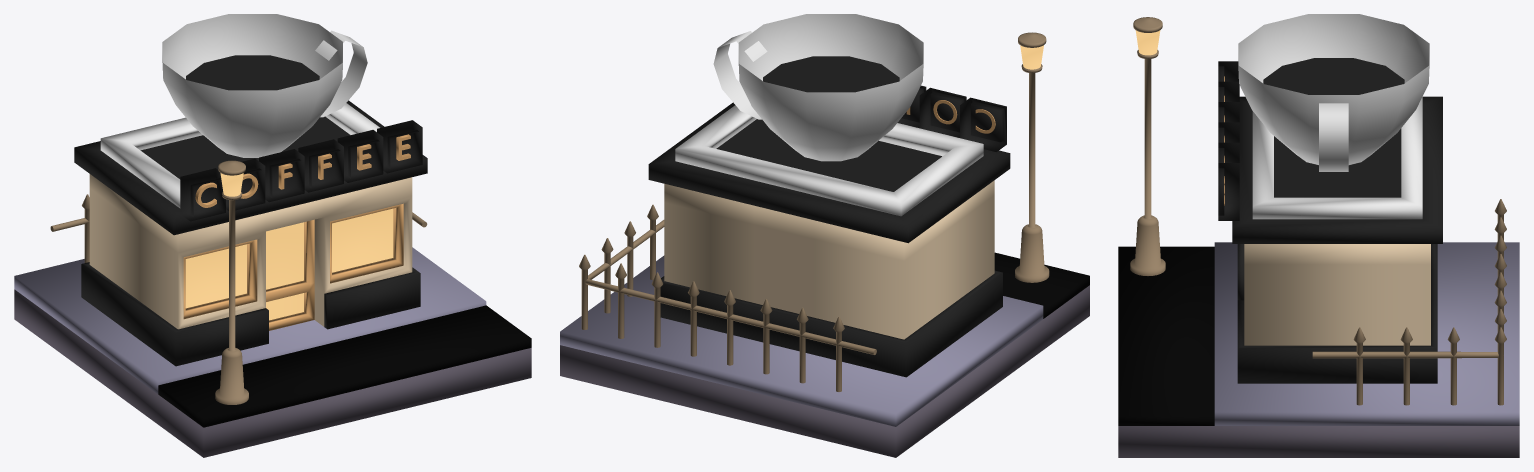
The model's file is coffeeshop.glb.
3 views of the same model, side by side, from view 1: azimuth 30°, elevation 25°; view 2: azimuth 150°, elevation 25°; view 3: azimuth 270°, elevation 25° (orthographic). The views are drawn at different scales.
Visible parts, largest first — view 1: Plane.004, Plane.002, Circle.001, Plane, Plane.001, Plane.008, Plane.005, Plane.003, Circle.003, Plane.006, Circle, Plane.007 (+8 smaller); view 2: Plane.004, Plane.001, Circle.001, Plane, Plane.005, Plane.008, Plane.003, Plane.016, Circle.003, Circle, Plane.002, Plane.009 (+2 smaller); view 3: Plane.001, Plane.004, Circle.001, Plane.002, Plane.005, Plane, Plane.008, Plane.003, Plane.016, Circle.003, Circle, Circle.002 (+6 smaller).
Part boxes in pixels (left/top/right/bottom): Plane.004: left=89, top=174, right=412, bottom=329; Plane.002: left=158, top=305, right=531, bottom=427; Circle.001: left=162, top=14, right=342, bottom=157; Plane: left=14, top=289, right=531, bottom=457; Plane.001: left=14, top=247, right=486, bottom=393; Plane.008: left=81, top=262, right=420, bottom=366; Plane.005: left=74, top=100, right=427, bottom=235; Plane.003: left=100, top=103, right=379, bottom=208; Circle.003: left=186, top=55, right=319, bottom=90; Plane.006: left=183, top=203, right=403, bottom=319; Circle: left=215, top=160, right=248, bottom=404; Plane.007: left=266, top=219, right=314, bottom=330; Plane.004: left=664, top=180, right=994, bottom=339; Plane.001: left=560, top=255, right=1043, bottom=426; Circle.001: left=738, top=14, right=923, bottom=161; Plane: left=560, top=285, right=1089, bottom=457; Plane.005: left=648, top=102, right=1010, bottom=243; Plane.008: left=660, top=270, right=1002, bottom=377; Plane.003: left=675, top=105, right=983, bottom=216; Plane.016: left=579, top=204, right=876, bottom=391; Circle.003: left=763, top=56, right=899, bottom=92; Circle: left=1015, top=32, right=1049, bottom=282; Plane.002: left=994, top=252, right=1089, bottom=318; Plane.009: left=960, top=97, right=1006, bottom=151; Plane.001: left=1214, top=242, right=1519, bottom=425; Plane.004: left=1244, top=244, right=1430, bottom=345; Circle.001: left=1238, top=14, right=1429, bottom=164; Plane.002: left=1118, top=246, right=1214, bottom=425; Plane.005: left=1232, top=96, right=1442, bottom=243; Plane: left=1118, top=426, right=1519, bottom=457; Plane.008: left=1237, top=244, right=1437, bottom=383; Plane.003: left=1252, top=97, right=1422, bottom=219; Plane.016: left=1312, top=199, right=1506, bottom=405; Circle.003: left=1263, top=58, right=1404, bottom=94; Circle: left=1130, top=17, right=1165, bottom=275; Circle.002: left=1319, top=103, right=1348, bottom=171.
Size of the model in its own units: 8 by 6.86 by 8.
